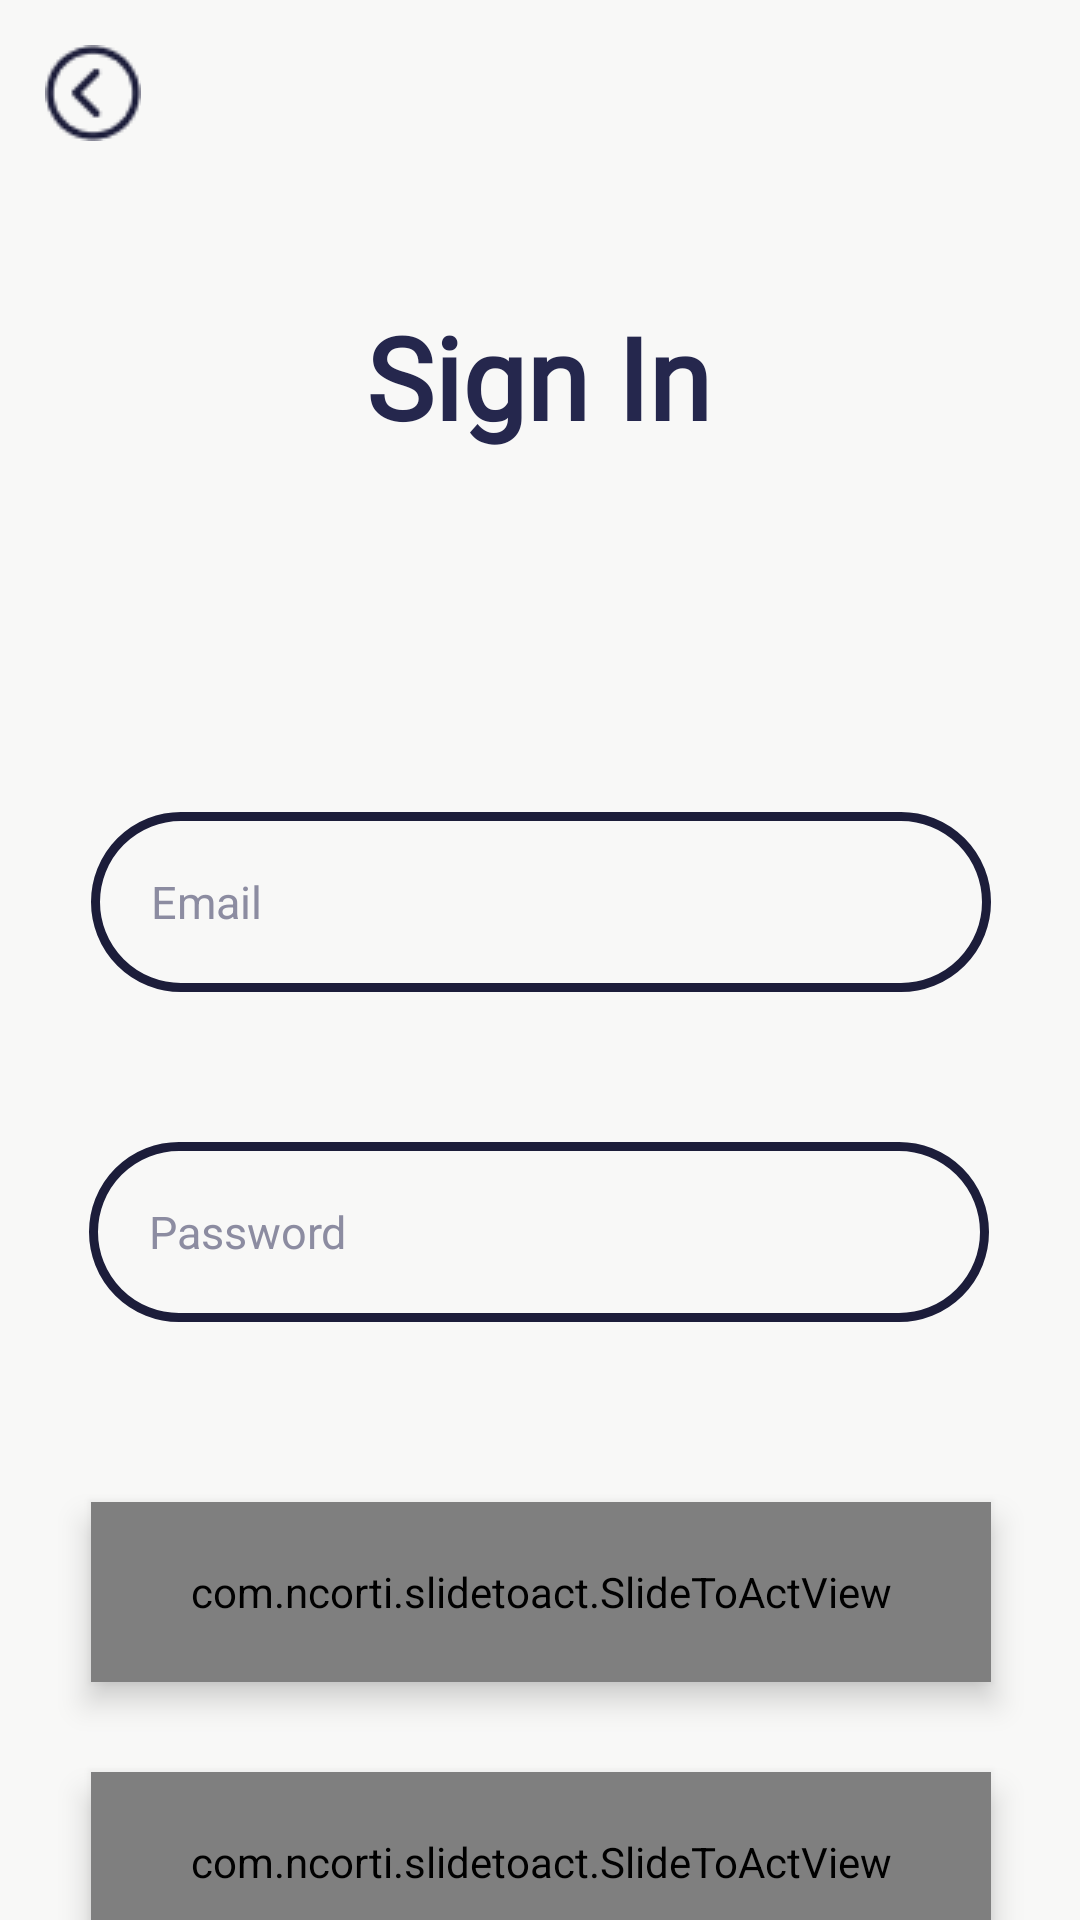

Icons on this 1080px x 1920px Android screen, each with the point to tap as (x=x, y=y):
back: (x=93, y=93)
